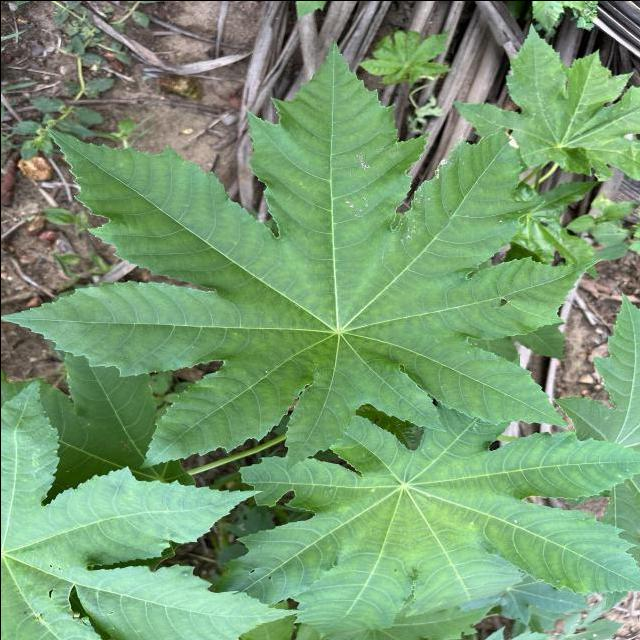Ricinus communis linn: (0, 35, 611, 477)
